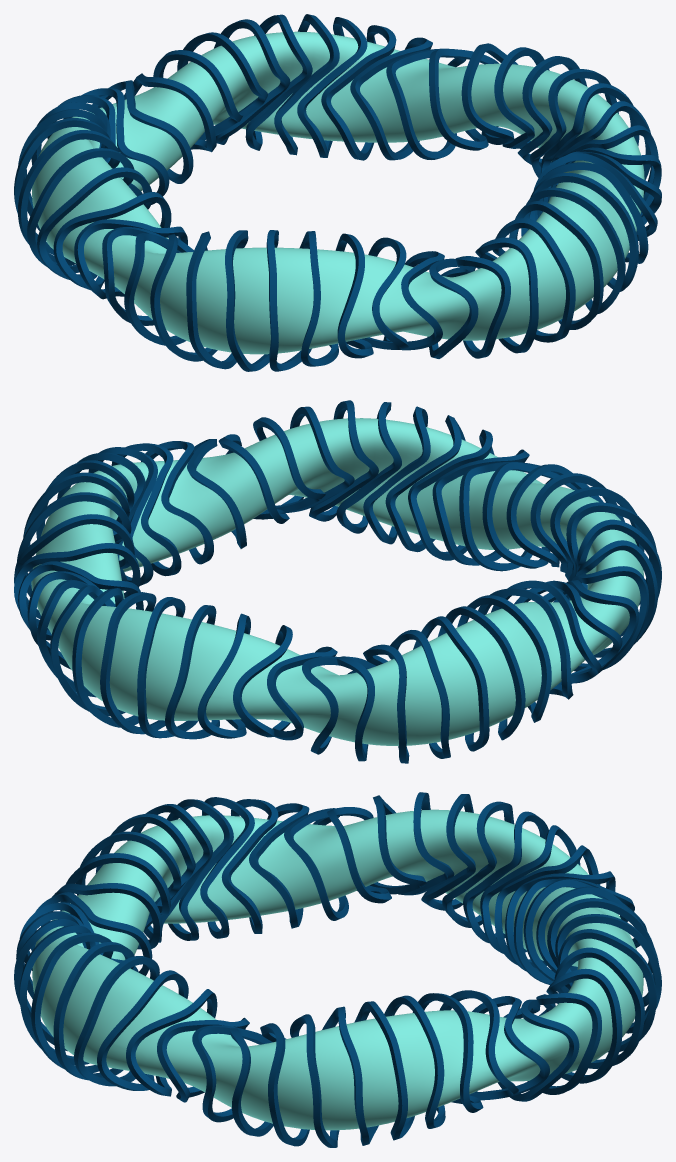
The model's file is proxima-scaled-w7x.glb.
3 views of the same model, one above another, from view 1: azimuth 30°, elevation 25°; view 2: azimuth 150°, elevation 25°; view 3: azimuth 270°, elevation 25° (orthographic).
Visible parts, largest first — view 1: vessel, coil_7, coil_24, coil_39, coil_6, coil_40, coil_23, coil_42, coil_10, coil_4, coil_21, coil_8 (+39 smaller); view 2: vessel, coil_10, coil_21, coil_37, coil_22, coil_20, coil_11, coil_34, coil_38, coil_36, coil_12, coil_9 (+39 smaller); view 3: vessel, coil_9, coil_42, coil_29, coil_41, coil_44, coil_8, coil_43, coil_40, coil_27, coil_2, coil_28 (+39 smaller).
Boxes of the visible parts, x1,y1,x2,y2 form: vessel: (32, 31, 644, 354); coil_7: (321, 25, 396, 160); coil_24: (53, 192, 171, 290); coil_39: (492, 218, 575, 342); coil_6: (350, 37, 432, 160); coil_40: (509, 201, 603, 329); coil_23: (37, 167, 151, 279); coil_42: (528, 172, 638, 291); coil_10: (245, 14, 312, 150); coil_4: (429, 48, 498, 150); coil_21: (18, 130, 119, 265); coil_8: (297, 17, 367, 157); vessel: (31, 418, 643, 745); coil_10: (100, 592, 165, 734); coil_21: (438, 606, 525, 740); coil_37: (408, 429, 494, 560); coil_22: (457, 595, 551, 722); coil_20: (413, 616, 489, 751); coil_11: (137, 597, 197, 738); coil_34: (482, 462, 577, 568); coil_38: (385, 415, 465, 552); coil_36: (432, 449, 529, 565); coil_12: (165, 605, 219, 739); coil_9: (72, 588, 138, 727); vessel: (32, 809, 643, 1130); coil_9: (554, 947, 644, 1068); coil_42: (74, 956, 159, 1086); coil_29: (167, 799, 233, 940); coil_41: (53, 942, 134, 1080); coil_44: (126, 989, 217, 1096); coil_8: (546, 968, 622, 1083); coil_43: (97, 970, 188, 1090); coil_40: (31, 932, 113, 1073); coil_27: (221, 799, 278, 933); coil_2: (384, 995, 445, 1128); coil_28: (200, 797, 254, 938).
Size of what is drawn, in the model's own units: 0.0341 by 0.00795 by 0.0342.
